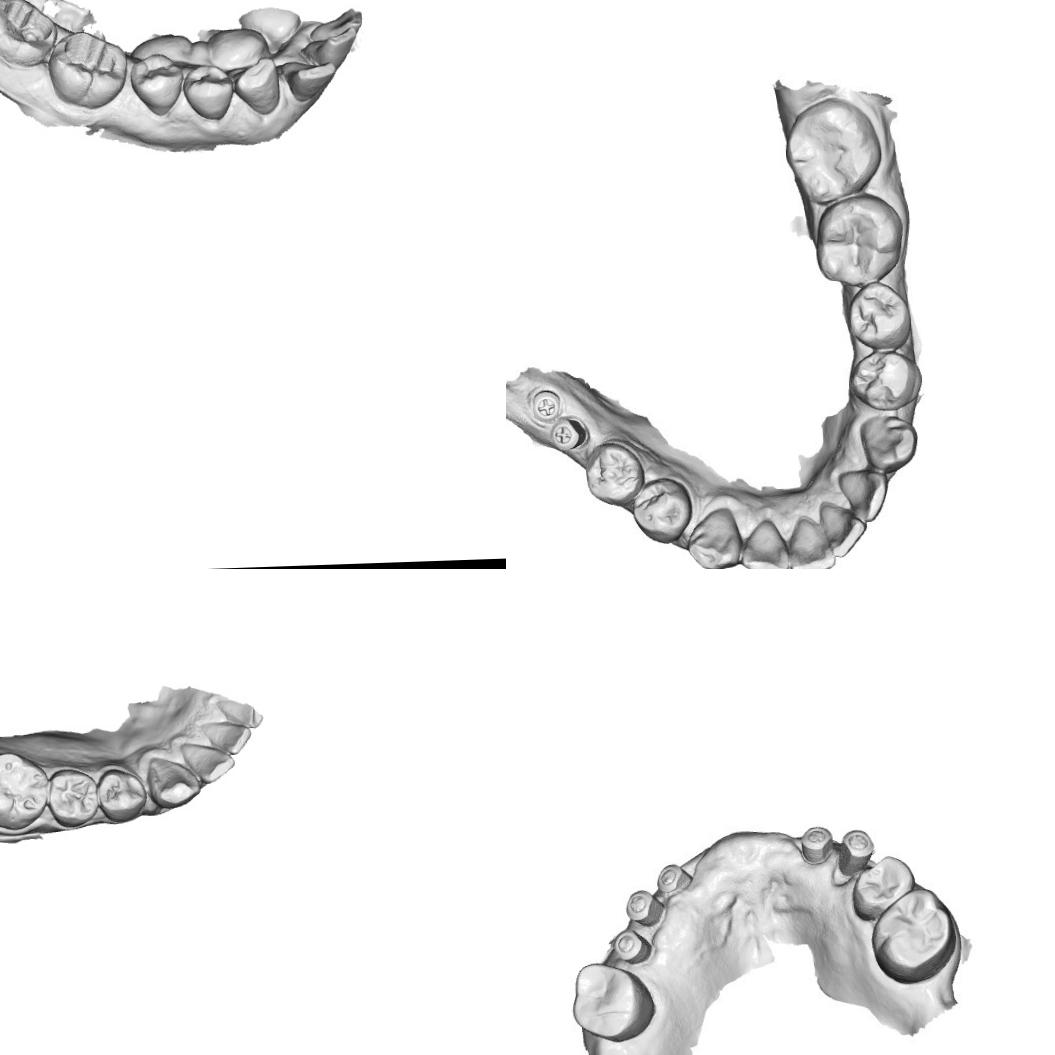canine: (686, 507, 744, 569), (145, 753, 202, 810), (863, 410, 920, 466), (232, 56, 282, 116)
implant: (608, 922, 656, 965), (620, 881, 664, 925), (797, 818, 832, 871), (654, 858, 691, 897), (838, 826, 872, 863)
implant_plus: (546, 410, 587, 456), (526, 385, 564, 425)
incisor: (298, 25, 360, 71), (838, 470, 890, 524), (280, 58, 337, 104), (178, 740, 236, 785), (822, 500, 866, 558), (741, 517, 787, 569), (790, 518, 832, 569), (200, 717, 253, 756), (306, 7, 364, 40), (211, 697, 263, 730)
molar: (786, 98, 878, 206), (867, 888, 959, 984), (817, 196, 899, 290), (572, 960, 658, 1043), (47, 28, 130, 112), (0, 749, 51, 832), (0, 0, 61, 69)
premolar: (849, 850, 917, 921), (127, 51, 185, 117), (853, 350, 916, 408), (584, 440, 640, 502), (854, 282, 912, 340), (181, 62, 235, 123), (47, 767, 100, 829), (95, 766, 148, 824), (637, 482, 687, 534)
